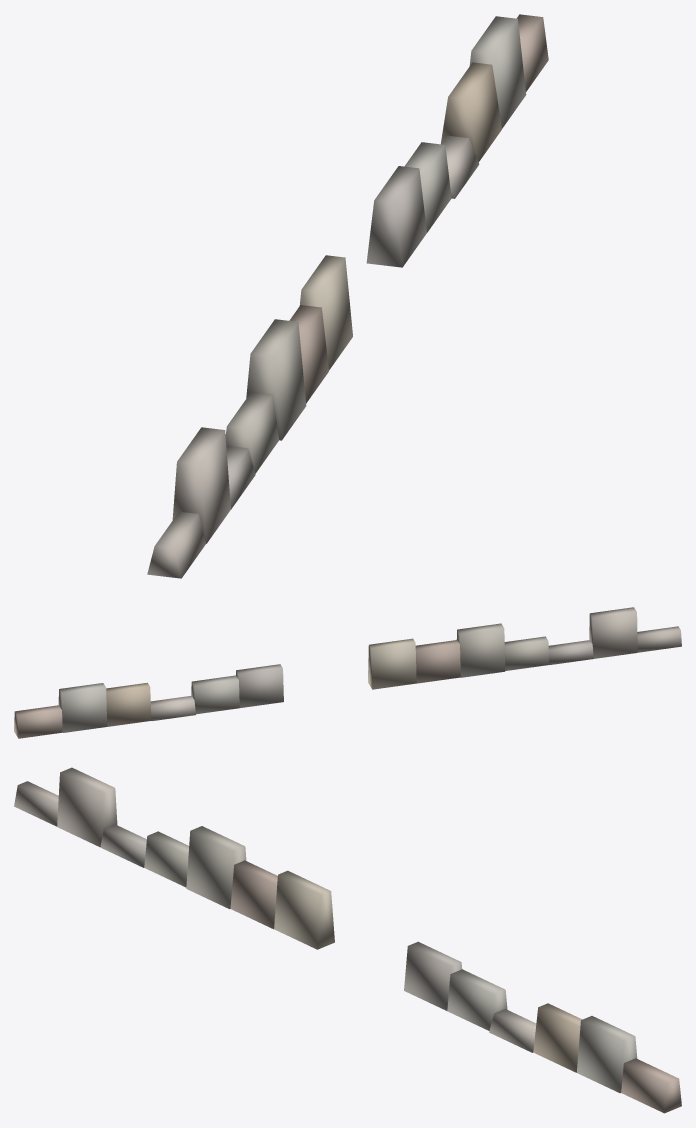
Rendered from farm_-54_-52_collision.glb.
3 renders of one model, top to bottom at view 1: azimuth 30°, elevation 25°; view 2: azimuth 150°, elevation 25°; view 3: azimuth 270°, elevation 25°, orthographic. The views are drawn at different scales.
Parts seen in each view (by area): view 1: geometry_0; view 2: geometry_0; view 3: geometry_0.
Part boxes in pixels (left/top/right/bottom): geometry_0: left=147, top=14, right=548, bottom=578; geometry_0: left=14, top=607, right=681, bottom=738; geometry_0: left=14, top=767, right=681, bottom=1113.
Bounding box in the file's own units: 16.57 × 2.11 × 16.28.
